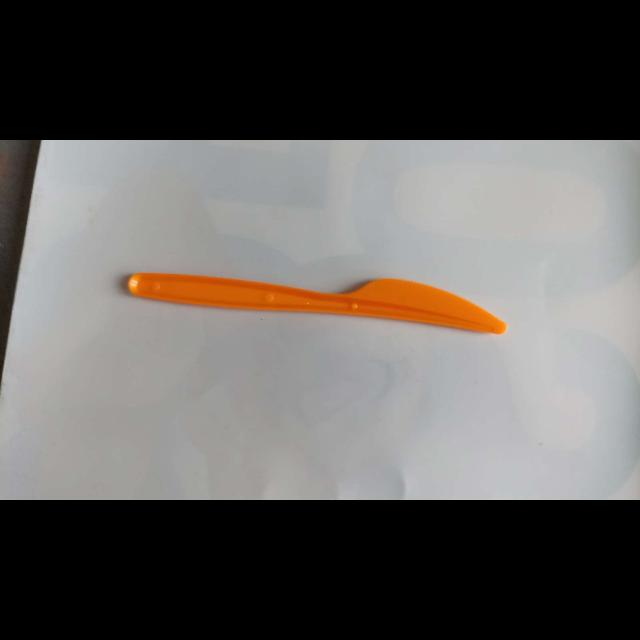plastic_cultery: (127, 268, 507, 338)
